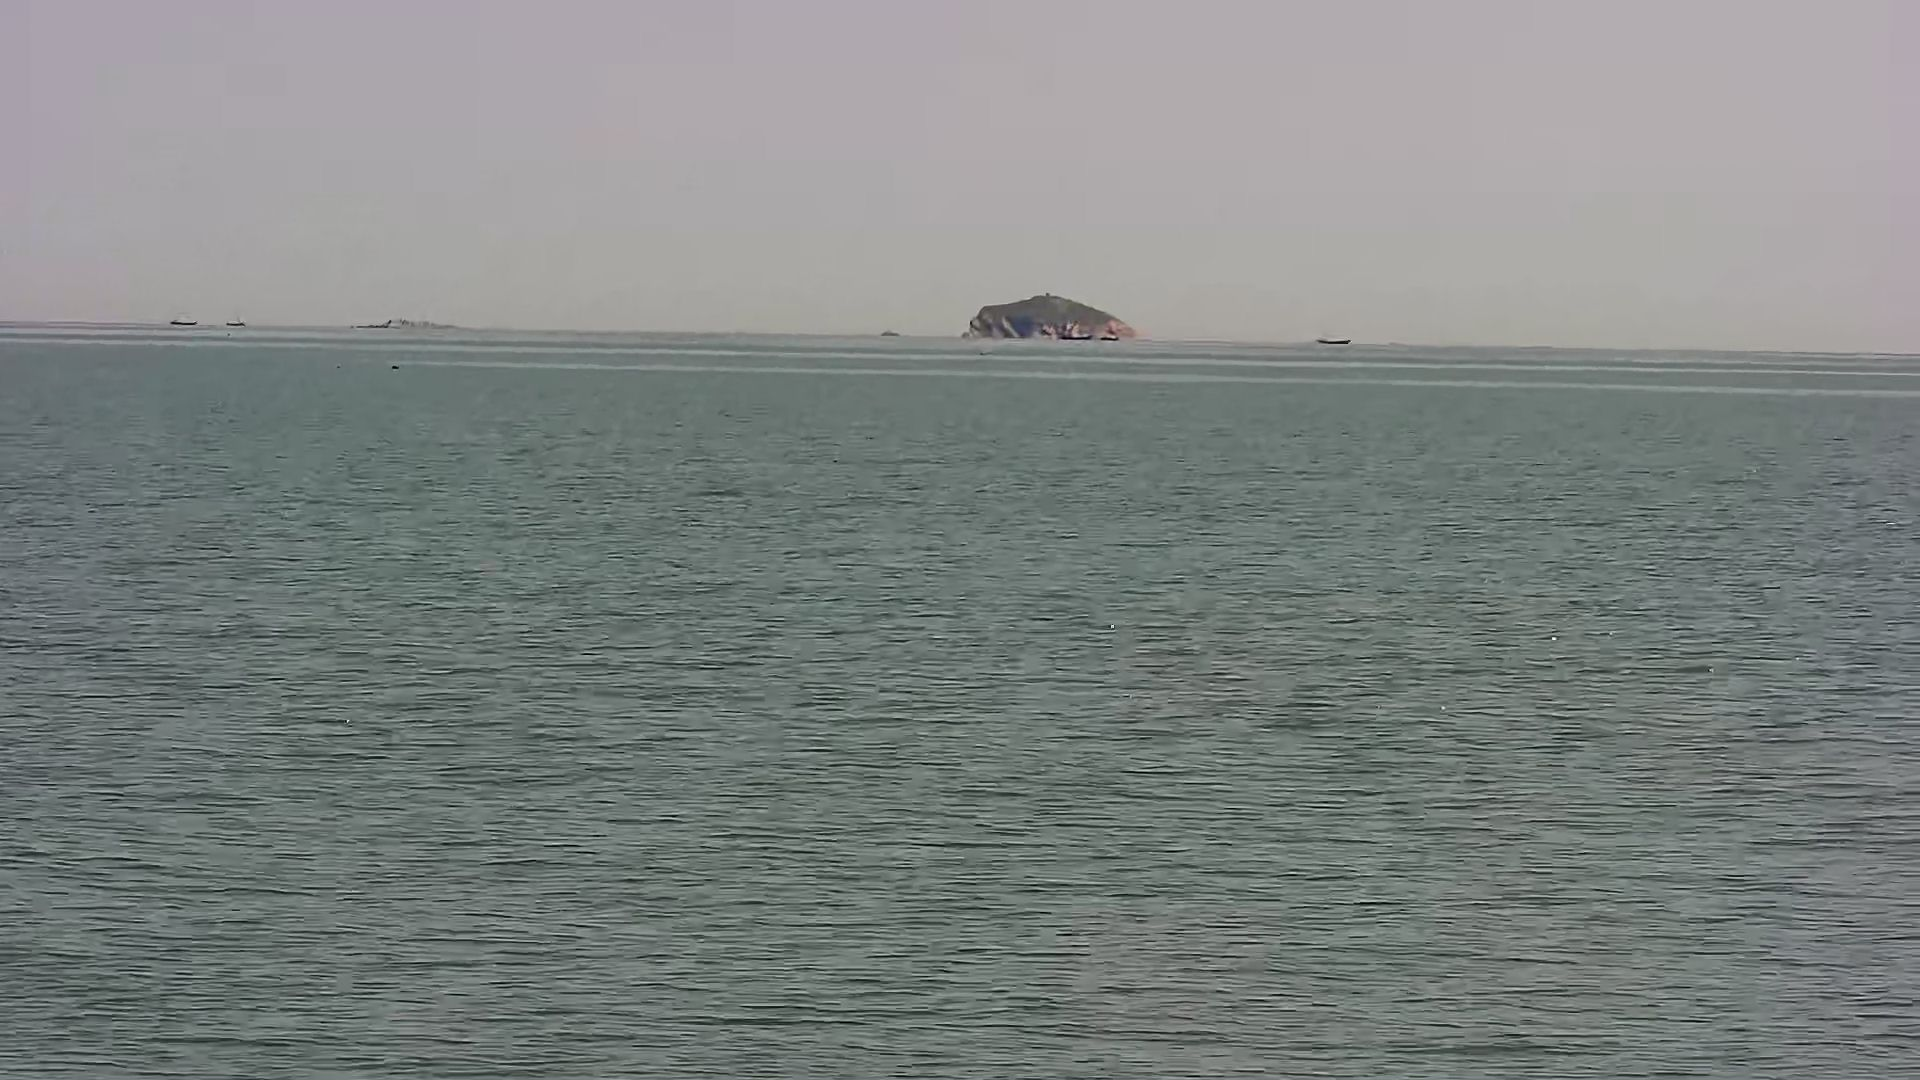rock: (955, 294, 1141, 342)
